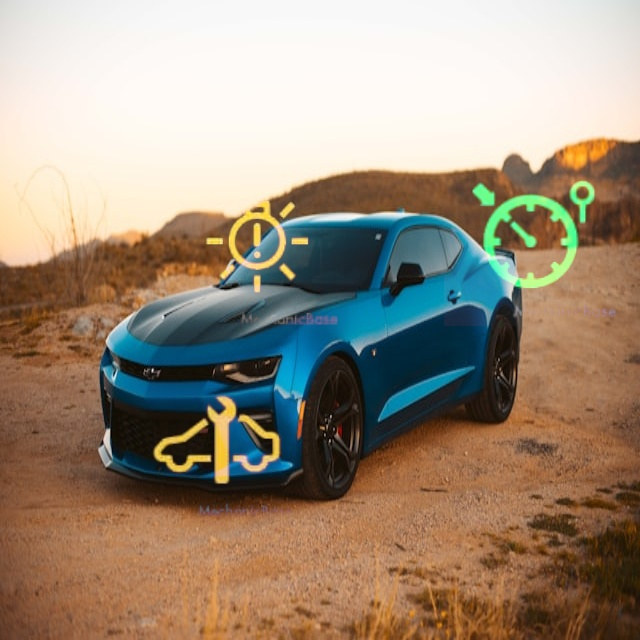symbol: (444, 147, 623, 326), (174, 163, 344, 333), (133, 359, 299, 525)
